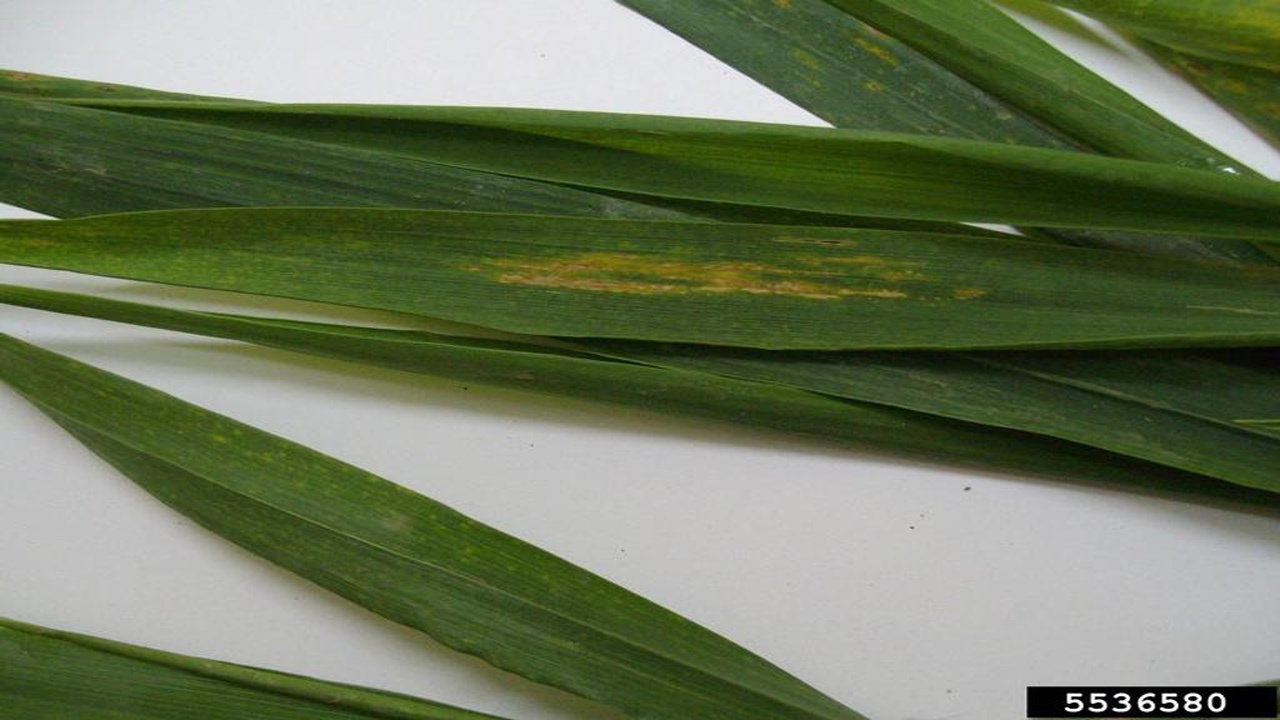tan_spot: (5, 208, 1271, 349)
